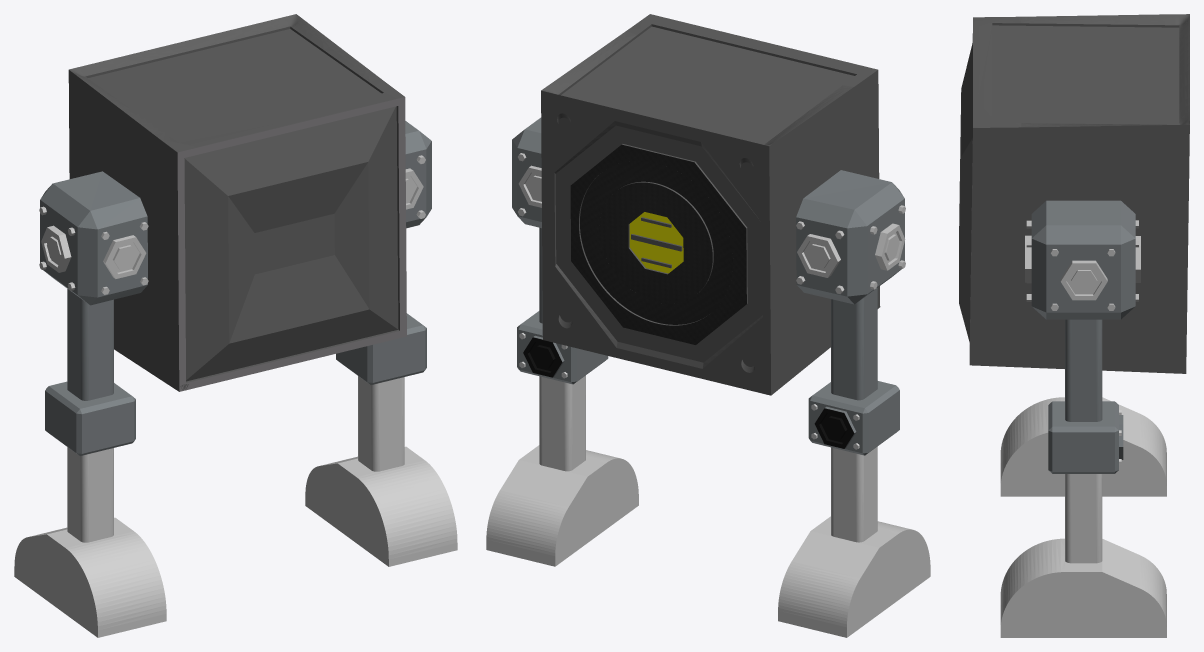
The model's file is Kail_PreFinal.fbx.
The picture shows the model from 3 angles, left to right: view 1: azimuth 30°, elevation 25°; view 2: azimuth 150°, elevation 25°; view 3: azimuth 270°, elevation 25°; orthographic projection.
Visible parts, largest first — view 1: Цилиндр.001, Цилиндр.003, Цилиндр.007, Цилиндр.006, Цилиндр.002, Цилиндр.005, Цилиндр.004; view 2: Цилиндр.001, Цилиндр.003, Цилиндр.007, Цилиндр.006, Цилиндр.002, Цилиндр.004, Цилиндр.005; view 3: Цилиндр.001, Цилиндр.002, Цилиндр.007, Цилиндр.006, Цилиндр.004.
Boxes of the visible parts, left/top/right/bottom form: Цилиндр.001: left=68, top=14, right=406, bottom=391; Цилиндр.003: left=39, top=171, right=148, bottom=455; Цилиндр.007: left=305, top=446, right=457, bottom=566; Цилиндр.006: left=14, top=517, right=166, bottom=637; Цилиндр.002: left=336, top=121, right=431, bottom=384; Цилиндр.005: left=67, top=447, right=113, bottom=542; Цилиндр.004: left=358, top=376, right=404, bottom=471; Цилиндр.001: left=541, top=14, right=880, bottom=395; Цилиндр.003: left=796, top=170, right=905, bottom=455; Цилиндр.007: left=486, top=445, right=638, bottom=566; Цилиндр.006: left=778, top=516, right=930, bottom=637; Цилиндр.002: left=512, top=117, right=608, bottom=384; Цилиндр.004: left=539, top=375, right=585, bottom=471; Цилиндр.005: left=831, top=446, right=877, bottom=542; Цилиндр.001: left=959, top=14, right=1189, bottom=373; Цилиндр.002: left=1025, top=200, right=1140, bottom=473; Цилиндр.007: left=1000, top=538, right=1166, bottom=637; Цилиндр.006: left=1000, top=397, right=1166, bottom=496; Цилиндр.004: left=1065, top=474, right=1102, bottom=563.
Bounding box in the file's own units: 199 × 251 × 109.
